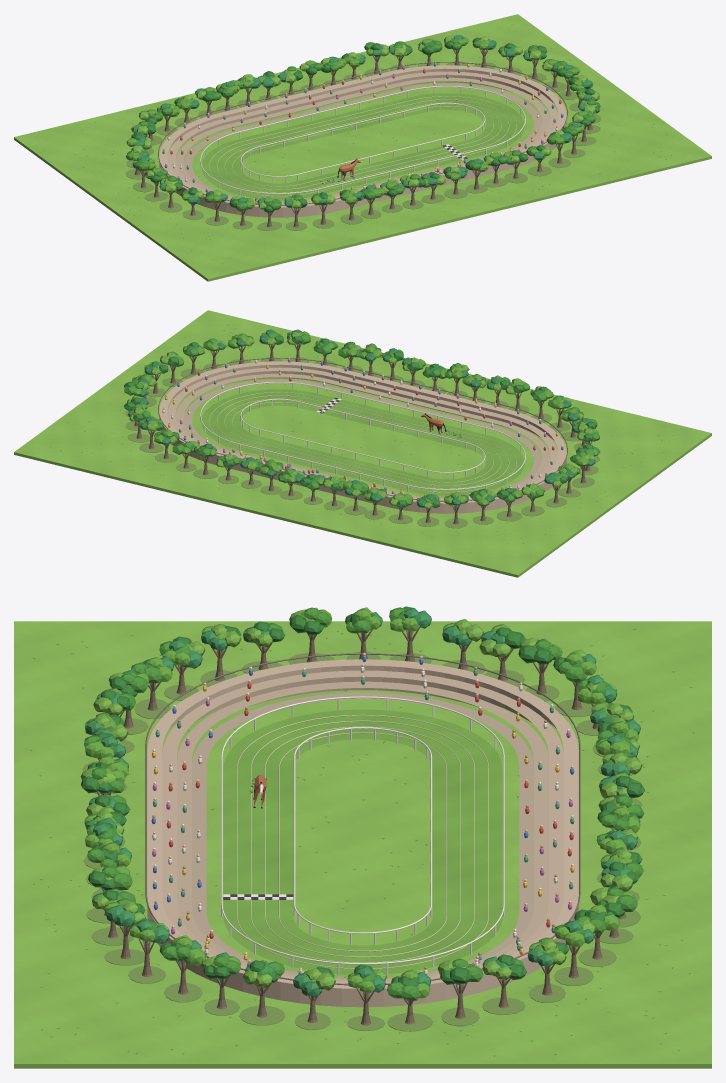
File: racetrack-grass.glb
3 views of the same model, one above another, from view 1: azimuth 30°, elevation 25°; view 2: azimuth 150°, elevation 25°; view 3: azimuth 270°, elevation 25° (orthographic). The views are drawn at different scales.
Parts seen in each view (by area): view 1: SOIL_ground_color_detail, ENV_oval_racing_surface, STAND_oval_terrace_4, STAND_oval_terrace_3, STAND_oval_terrace_2, ENV_grass_base, STAND_oval_terrace_1, ENV_outer_white_rail, ENV_inner_white_rail, STAND_outer_guard_rail, LANE_divider_4, LANE_divider_3 (+2 smaller); view 2: SOIL_ground_color_detail, ENV_oval_racing_surface, STAND_oval_terrace_4, STAND_oval_terrace_3, STAND_oval_terrace_2, ENV_grass_base, STAND_oval_terrace_1, ENV_outer_white_rail, ENV_inner_white_rail, STAND_outer_guard_rail, LANE_divider_4, LANE_divider_3 (+2 smaller); view 3: SOIL_ground_color_detail, ENV_oval_racing_surface, STAND_oval_terrace_4, STAND_oval_terrace_3, STAND_oval_terrace_2, STAND_oval_terrace_1, ENV_grass_base, ENV_outer_white_rail, STAND_outer_guard_rail, ENV_inner_white_rail, LANE_divider_1, LANE_divider_4 (+2 smaller).
Part boxes in pixels (x1,y1,x2,y2): SOIL_ground_color_detail: (14, 14, 711, 278); ENV_oval_racing_surface: (201, 93, 524, 199); STAND_oval_terrace_4: (159, 65, 566, 217); STAND_oval_terrace_3: (167, 71, 558, 203); STAND_oval_terrace_2: (176, 77, 549, 203); ENV_grass_base: (14, 137, 711, 281); STAND_oval_terrace_1: (184, 84, 541, 202); ENV_outer_white_rail: (200, 86, 525, 193); ENV_inner_white_rail: (240, 103, 485, 176); STAND_outer_guard_rail: (158, 62, 567, 205); LANE_divider_4: (209, 96, 516, 196); LANE_divider_3: (216, 99, 509, 193); SOIL_ground_color_detail: (14, 310, 711, 574); ENV_oval_racing_surface: (201, 389, 524, 495); STAND_oval_terrace_4: (159, 361, 566, 513); STAND_oval_terrace_3: (167, 367, 558, 499); STAND_oval_terrace_2: (176, 373, 549, 499); ENV_grass_base: (14, 433, 711, 577); STAND_oval_terrace_1: (184, 380, 541, 498); ENV_outer_white_rail: (200, 382, 525, 489); ENV_inner_white_rail: (240, 399, 485, 472); STAND_outer_guard_rail: (158, 358, 567, 501); LANE_divider_4: (209, 392, 516, 492); LANE_divider_3: (216, 395, 509, 489); SOIL_ground_color_detail: (14, 621, 711, 1063); ENV_oval_racing_surface: (223, 709, 502, 974); STAND_oval_terrace_4: (147, 659, 578, 1007); STAND_oval_terrace_3: (162, 670, 563, 982); STAND_oval_terrace_2: (177, 681, 548, 980); STAND_oval_terrace_1: (192, 693, 533, 979); ENV_grass_base: (14, 1063, 711, 1068); ENV_outer_white_rail: (221, 696, 504, 964); STAND_outer_guard_rail: (145, 653, 580, 985); ENV_inner_white_rail: (293, 727, 432, 933); LANE_divider_1: (278, 732, 447, 951); LANE_divider_4: (237, 714, 488, 968).
Bounding box in the file's own units: 60 × 3.84 × 40.
